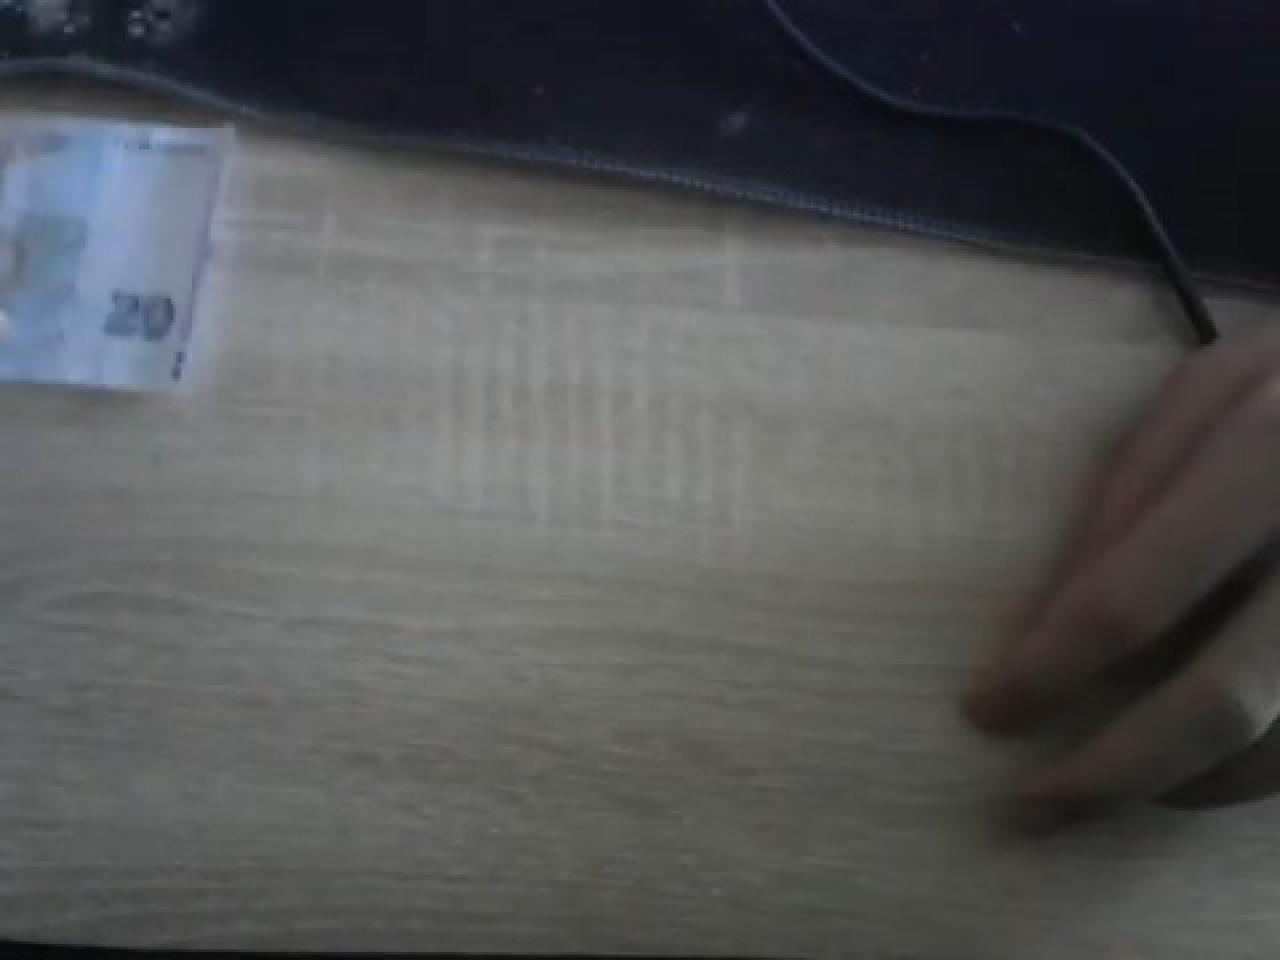20leva: (0, 62, 235, 397)
